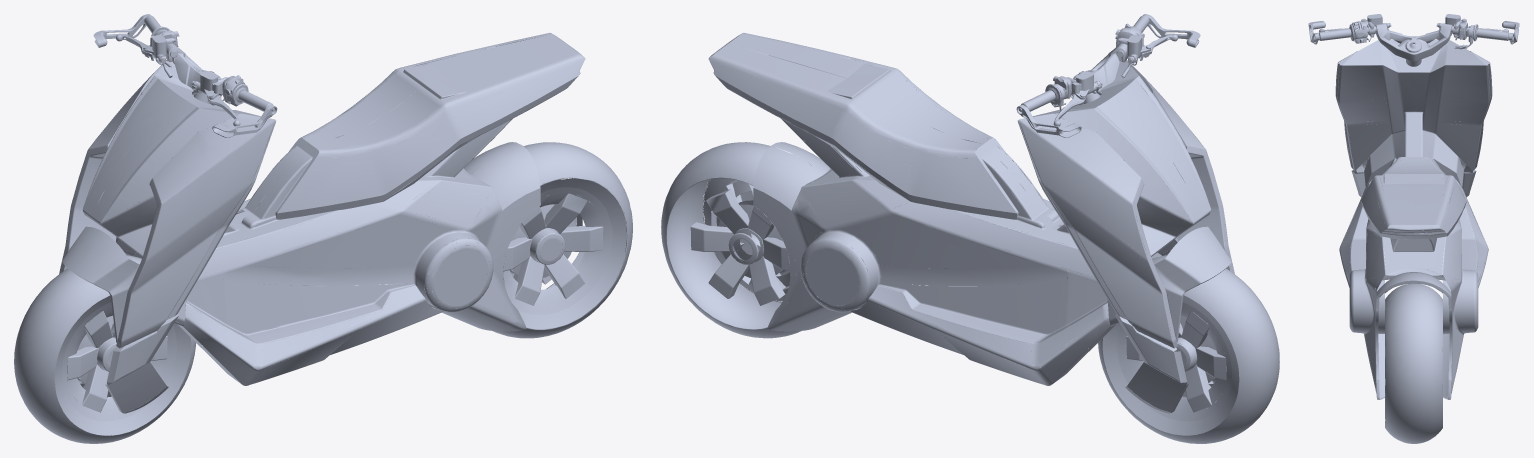
Rendered from vytron.glb.
3 views of the same model, side by side, from view 1: azimuth 30°, elevation 25°; view 2: azimuth 150°, elevation 25°; view 3: azimuth 270°, elevation 25° (orthographic). The views are drawn at different scales.
Visible parts, largest first — view 1: Blend_srf#74.001; view 2: Blend_srf#74.001; view 3: Blend_srf#74.001.
Boxes of the visible parts, x1,y1,x2,y2 form: Blend_srf#74.001: [14, 14, 632, 443]; Blend_srf#74.001: [661, 14, 1279, 443]; Blend_srf#74.001: [1308, 14, 1519, 443].
Bounding box in the file's own units: 1.93 × 1.1 × 0.7397.
